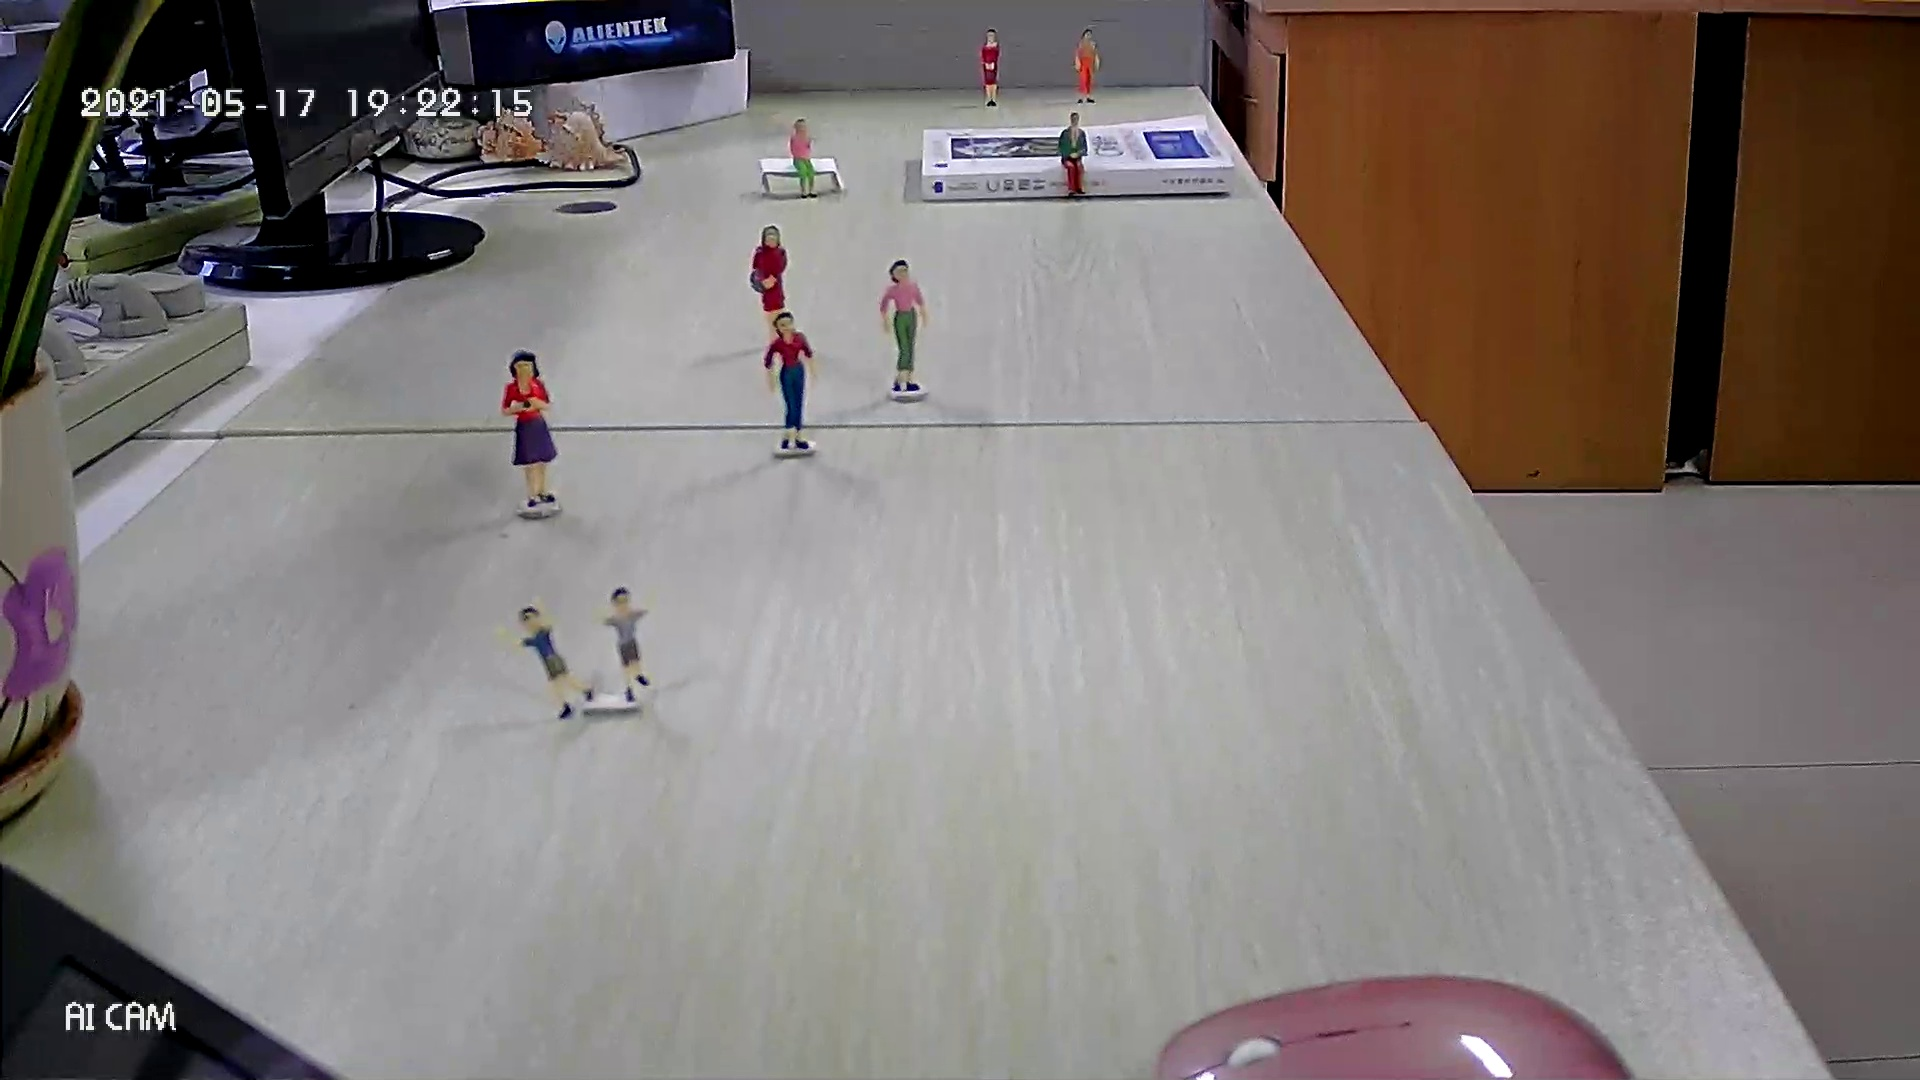person: (497, 600, 597, 722), (497, 348, 563, 510), (591, 584, 665, 706), (763, 310, 823, 452), (877, 254, 931, 394), (749, 222, 791, 350), (785, 112, 825, 202), (1057, 110, 1093, 200), (1069, 24, 1105, 108), (977, 24, 1007, 112)
